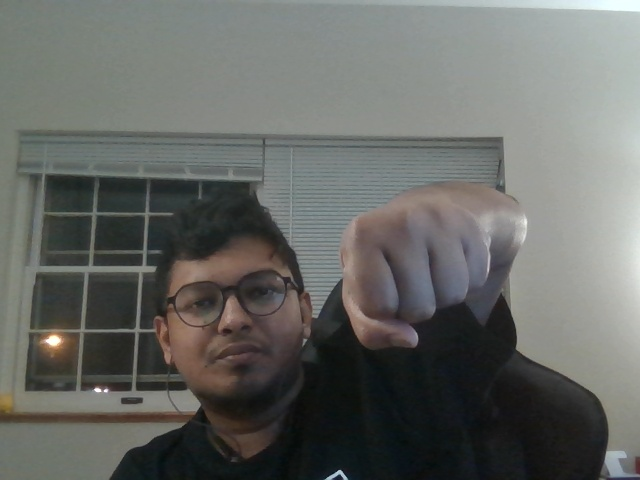yes: (308, 153, 545, 376)
